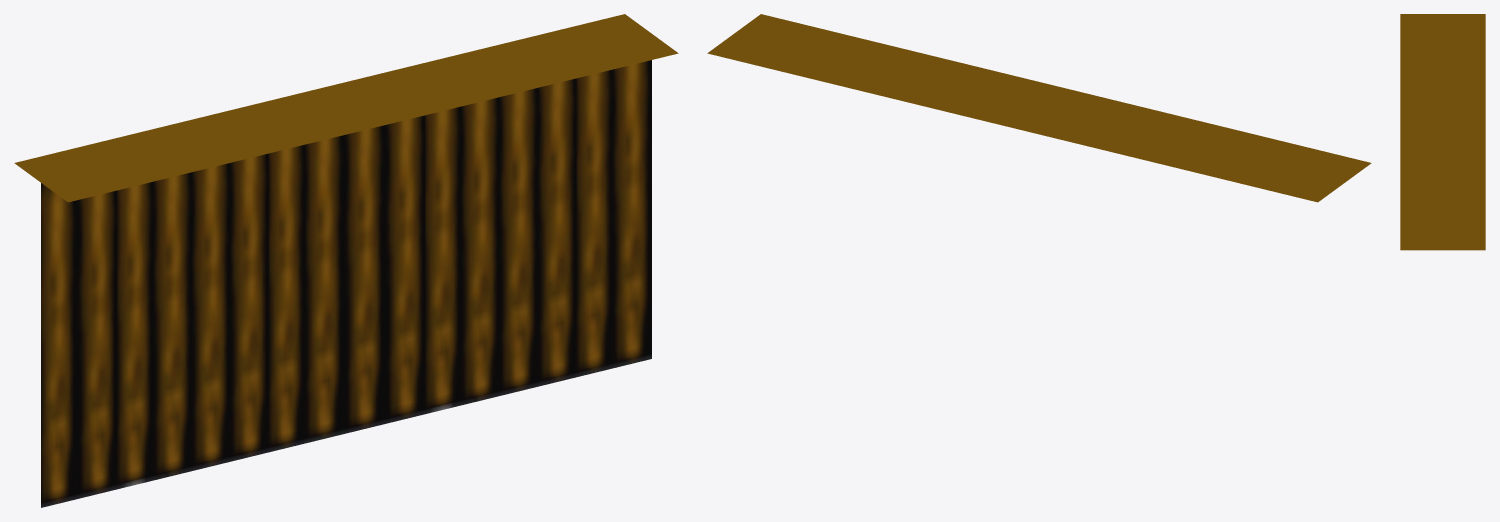
The model's file is Geländer0.5 [Braun]_100.glb.
3 views of the same model, side by side, from view 1: azimuth 30°, elevation 25°; view 2: azimuth 150°, elevation 25°; view 3: azimuth 270°, elevation 25° (orthographic). The views are drawn at different scales.
Parts seen in each view (by area): view 1: pPlaneShape229, pPlaneShape230; view 2: pPlaneShape230; view 3: pPlaneShape230.
Boxes of the visible parts, bbox=[...] form: pPlaneShape229: bbox=[41, 60, 651, 507]; pPlaneShape230: bbox=[14, 14, 678, 202]; pPlaneShape230: bbox=[707, 14, 1371, 202]; pPlaneShape230: bbox=[1400, 14, 1485, 250].
Size of the model in its own units: 0.1592 by 0.081 by 0.0243.
Materials: 2 (1 with a texture image).
